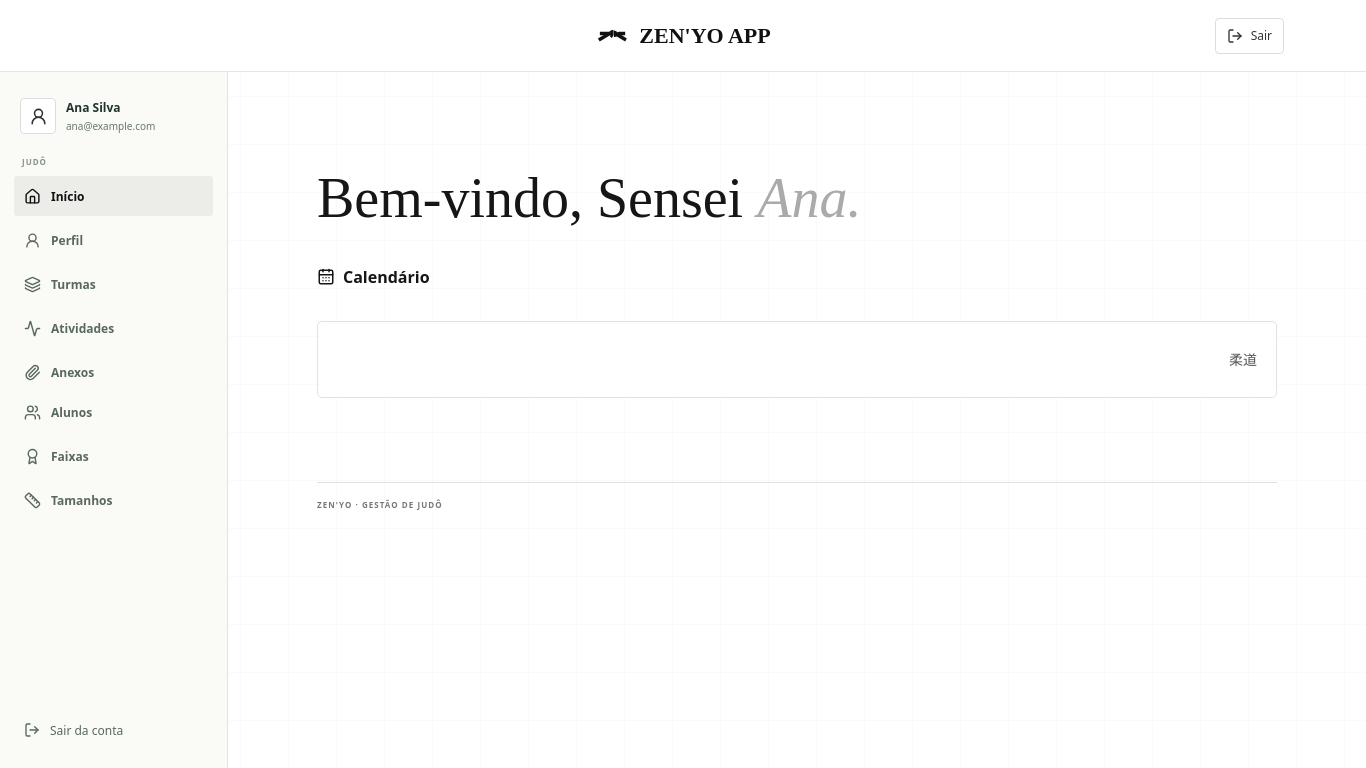
Test case: sessão e navegação protegida › mostra nome e e-mail no menu e encerra a sessão ao sair
Expected: the navigation bar named "Navegação principal" is shown, [14,176,213,392]
Expected: the text "Ana Silva" is shown, [66,99,120,116]
Step 1. Click the link "Atividades" → (69, 328), box [24,320,114,336]
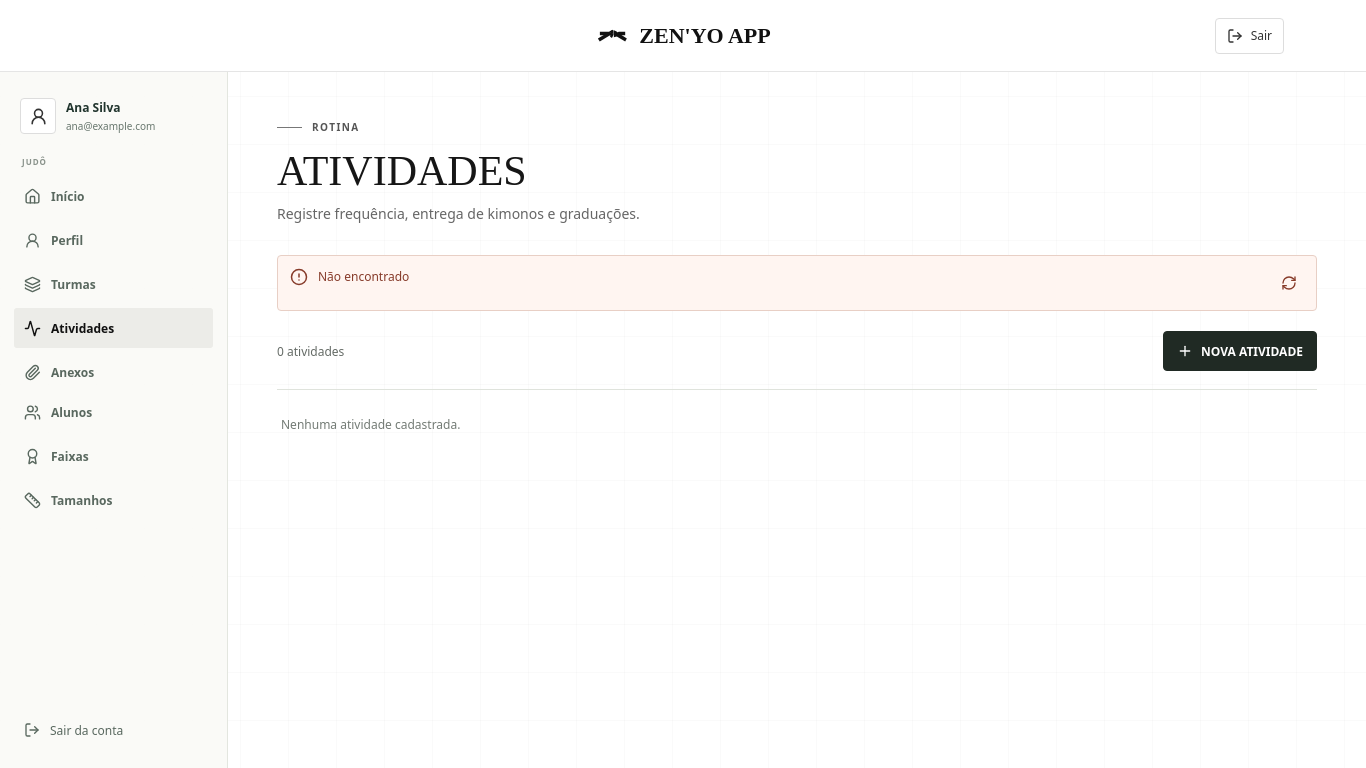
Now the heading "Atividades" is shown, box [277,148,527,194]
Step 2. Click the button "Sair" → (1249, 36), box [1215,18,1284,54]
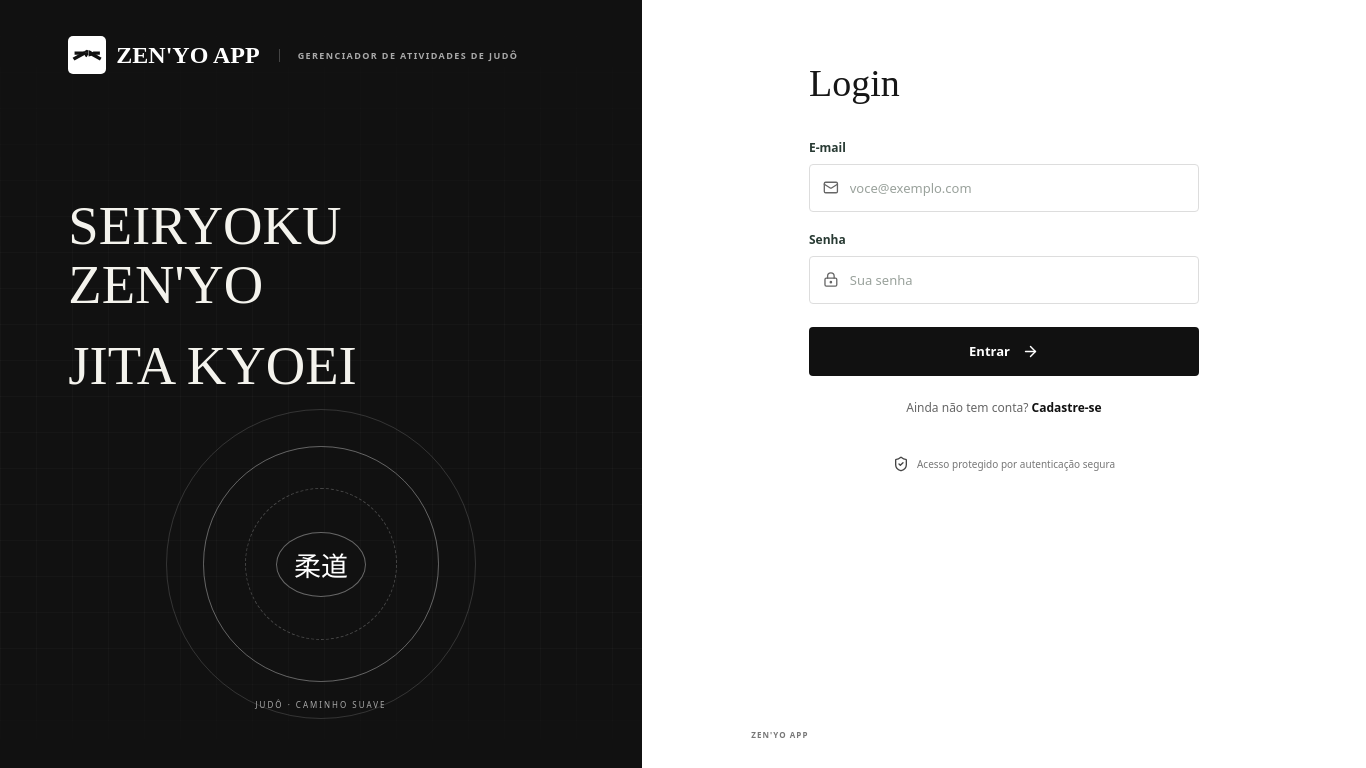
Now the heading "Login" is shown, box [809,62,900,104]
